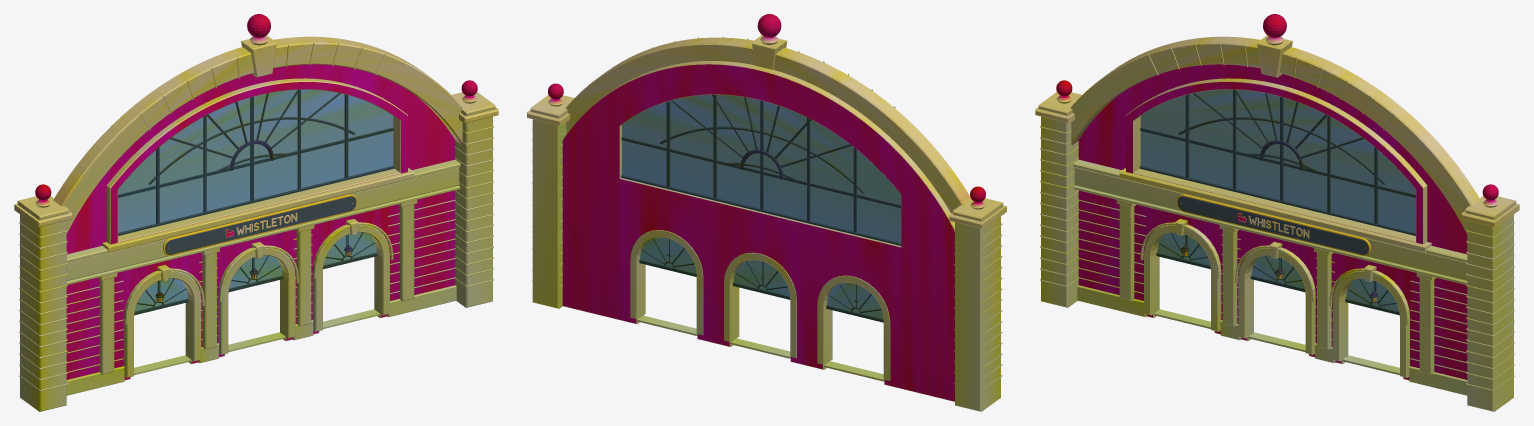
File: GS_Hall_Facade.glb
3 views of the same model, side by side, from view 1: azimuth 30°, elevation 25°; view 2: azimuth 150°, elevation 25°; view 3: azimuth 330°, elevation 25° (orthographic).
Visible parts, largest first — view 1: GS_Hall_Facade; view 2: GS_Hall_Facade; view 3: GS_Hall_Facade.
Part boxes in pixels (x1=…): GS_Hall_Facade: x1=14, y1=14, x2=498, y2=411; GS_Hall_Facade: x1=527, y1=14, x2=1006, y2=411; GS_Hall_Facade: x1=1035, y1=14, x2=1519, y2=411.
Size of the model in its own units: 27.34 by 19.07 by 2.57.
